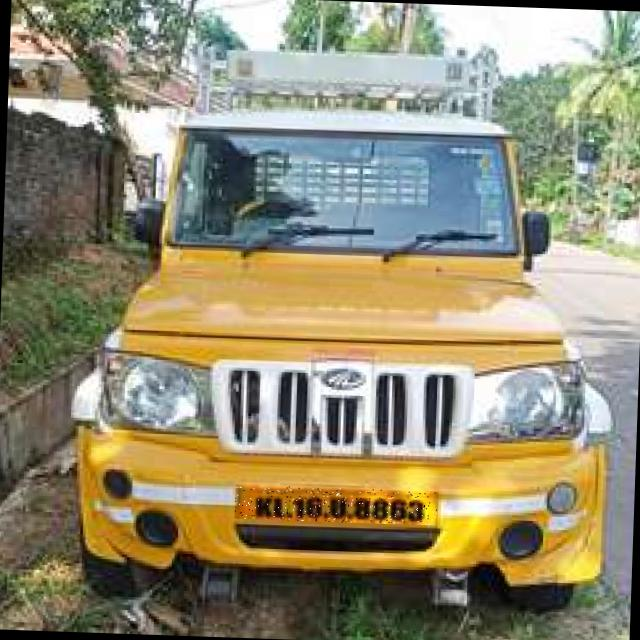Plate: (235, 485, 439, 526)
